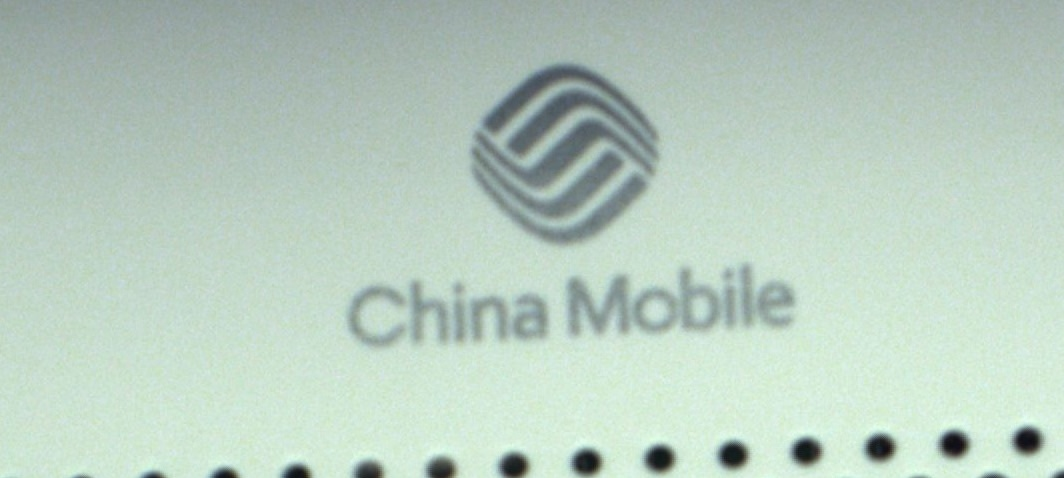AA_ChinaMobile: (343, 58, 807, 350)
